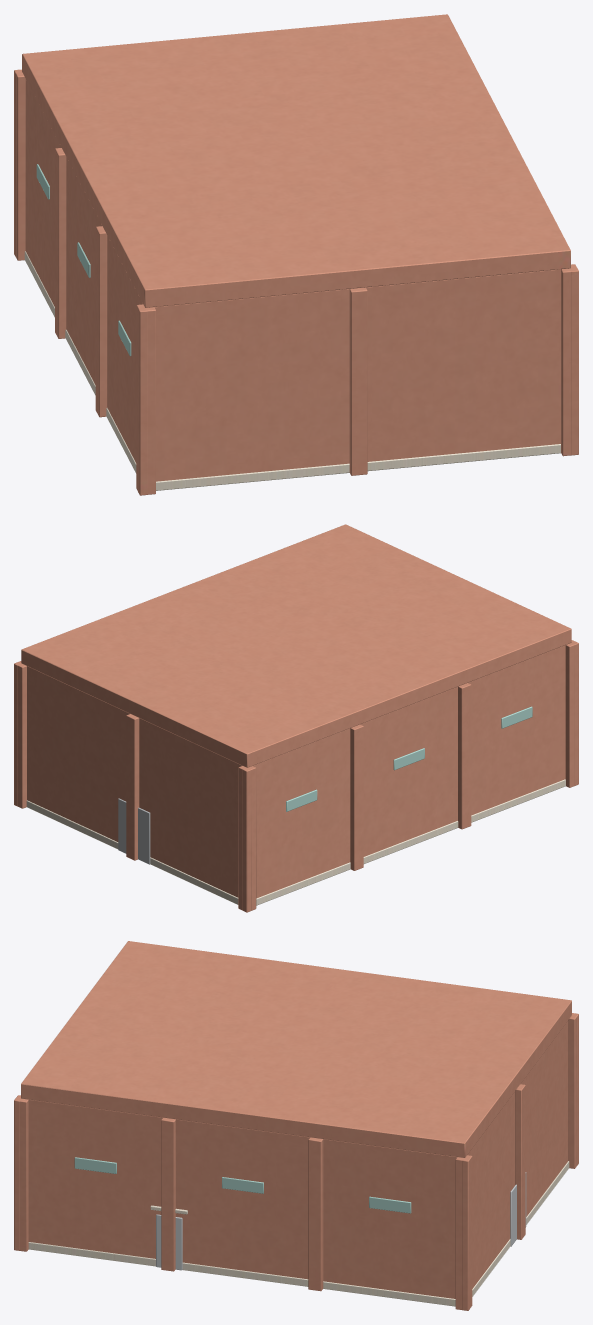
File: Batiment_bloc_1.glb
3 renders of one model, top to bottom at view 1: azimuth 30°, elevation 25°; view 2: azimuth 150°, elevation 25°; view 3: azimuth 270°, elevation 25°, orthographic. The views are drawn at different scales.
Visible parts, largest first — view 1: Batiment_bloc_1_mur, Batiment_bloc_1_band, Batiment_bloc_1_pdv; view 2: Batiment_bloc_1_mur, Batiment_bloc_1_band, Batiment_bloc_1_pgris, Batiment_bloc_1_pdv; view 3: Batiment_bloc_1_mur, Batiment_bloc_1_band, Batiment_bloc_1_pdv, Batiment_bloc_1_pgris.
Boxes of the visible parts, x1,y1,x2,y2 form: Batiment_bloc_1_mur: [14, 14, 578, 495]; Batiment_bloc_1_band: [24, 251, 560, 490]; Batiment_bloc_1_pdv: [36, 164, 131, 356]; Batiment_bloc_1_mur: [14, 524, 578, 912]; Batiment_bloc_1_band: [26, 779, 565, 905]; Batiment_bloc_1_pgris: [118, 798, 150, 864]; Batiment_bloc_1_pdv: [286, 706, 532, 811]; Batiment_bloc_1_mur: [14, 941, 578, 1310]; Batiment_bloc_1_band: [28, 1161, 569, 1306]; Batiment_bloc_1_pdv: [74, 1157, 411, 1213]; Batiment_bloc_1_pgris: [156, 1172, 526, 1270].
Bounding box in the file's own units: 17.86 × 6.6 × 20.47.
5 materials, 5 textured.
